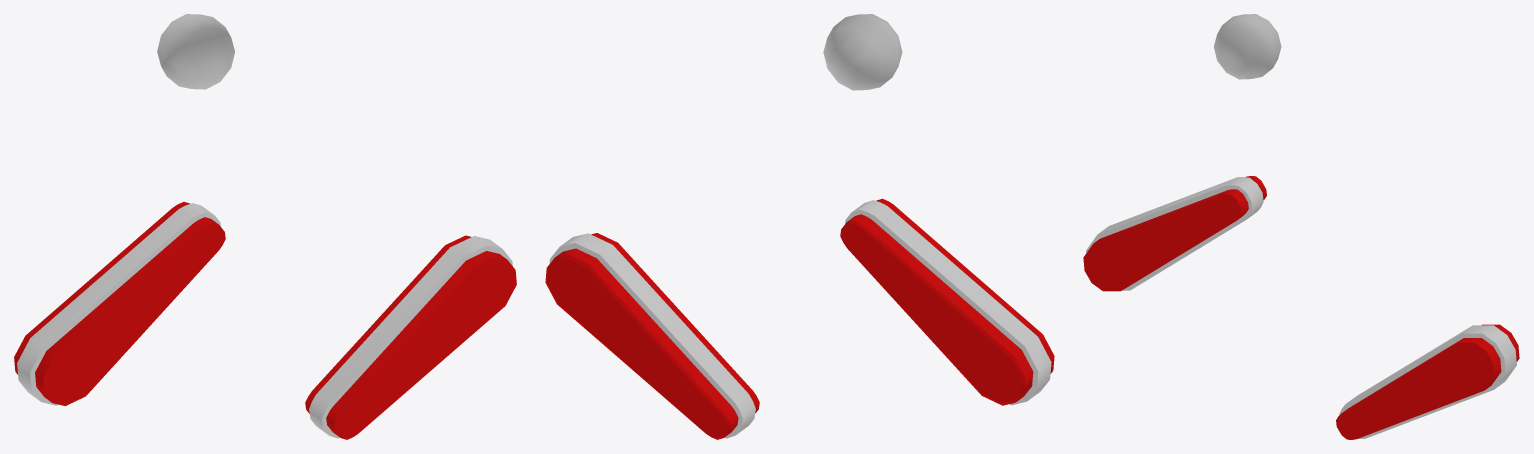
The model's file is ps2_save-icons_pinball.glb.
3 renders of one model, left to right at view 1: azimuth 30°, elevation 25°; view 2: azimuth 150°, elevation 25°; view 3: azimuth 330°, elevation 25°, orthographic. The views are drawn at different scales.
Visible parts, largest first — view 1: pin1.ico; view 2: pin1.ico; view 3: pin1.ico.
Part boxes in pixels (left/top/right/bottom): pin1.ico: left=14, top=14, right=516, bottom=439; pin1.ico: left=545, top=14, right=1054, bottom=439; pin1.ico: left=1083, top=14, right=1519, bottom=439.
Bounding box in the file's own units: 4.59 × 4.05 × 0.6414.
1 material, 1 textured.
